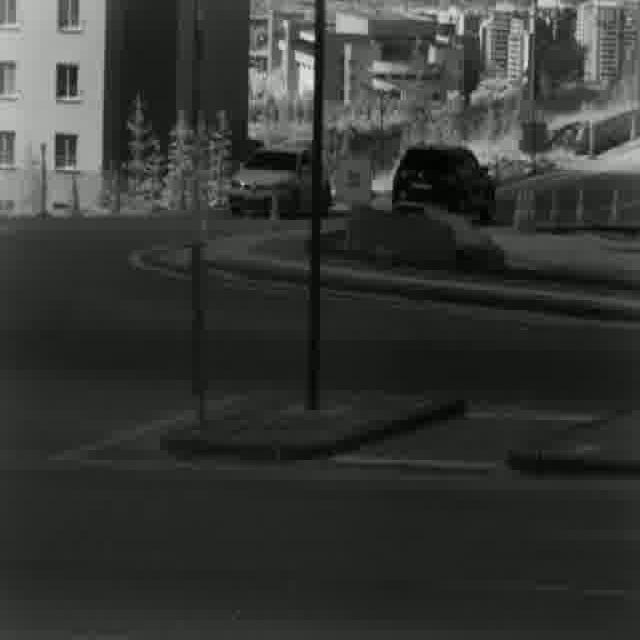Car: (388, 143, 498, 226), (228, 142, 333, 222)
